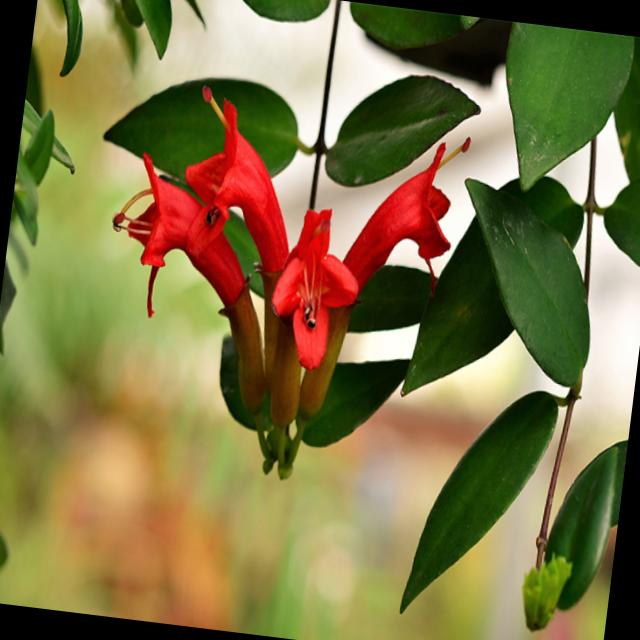Lipstick-Plant: (86, 63, 478, 460)
